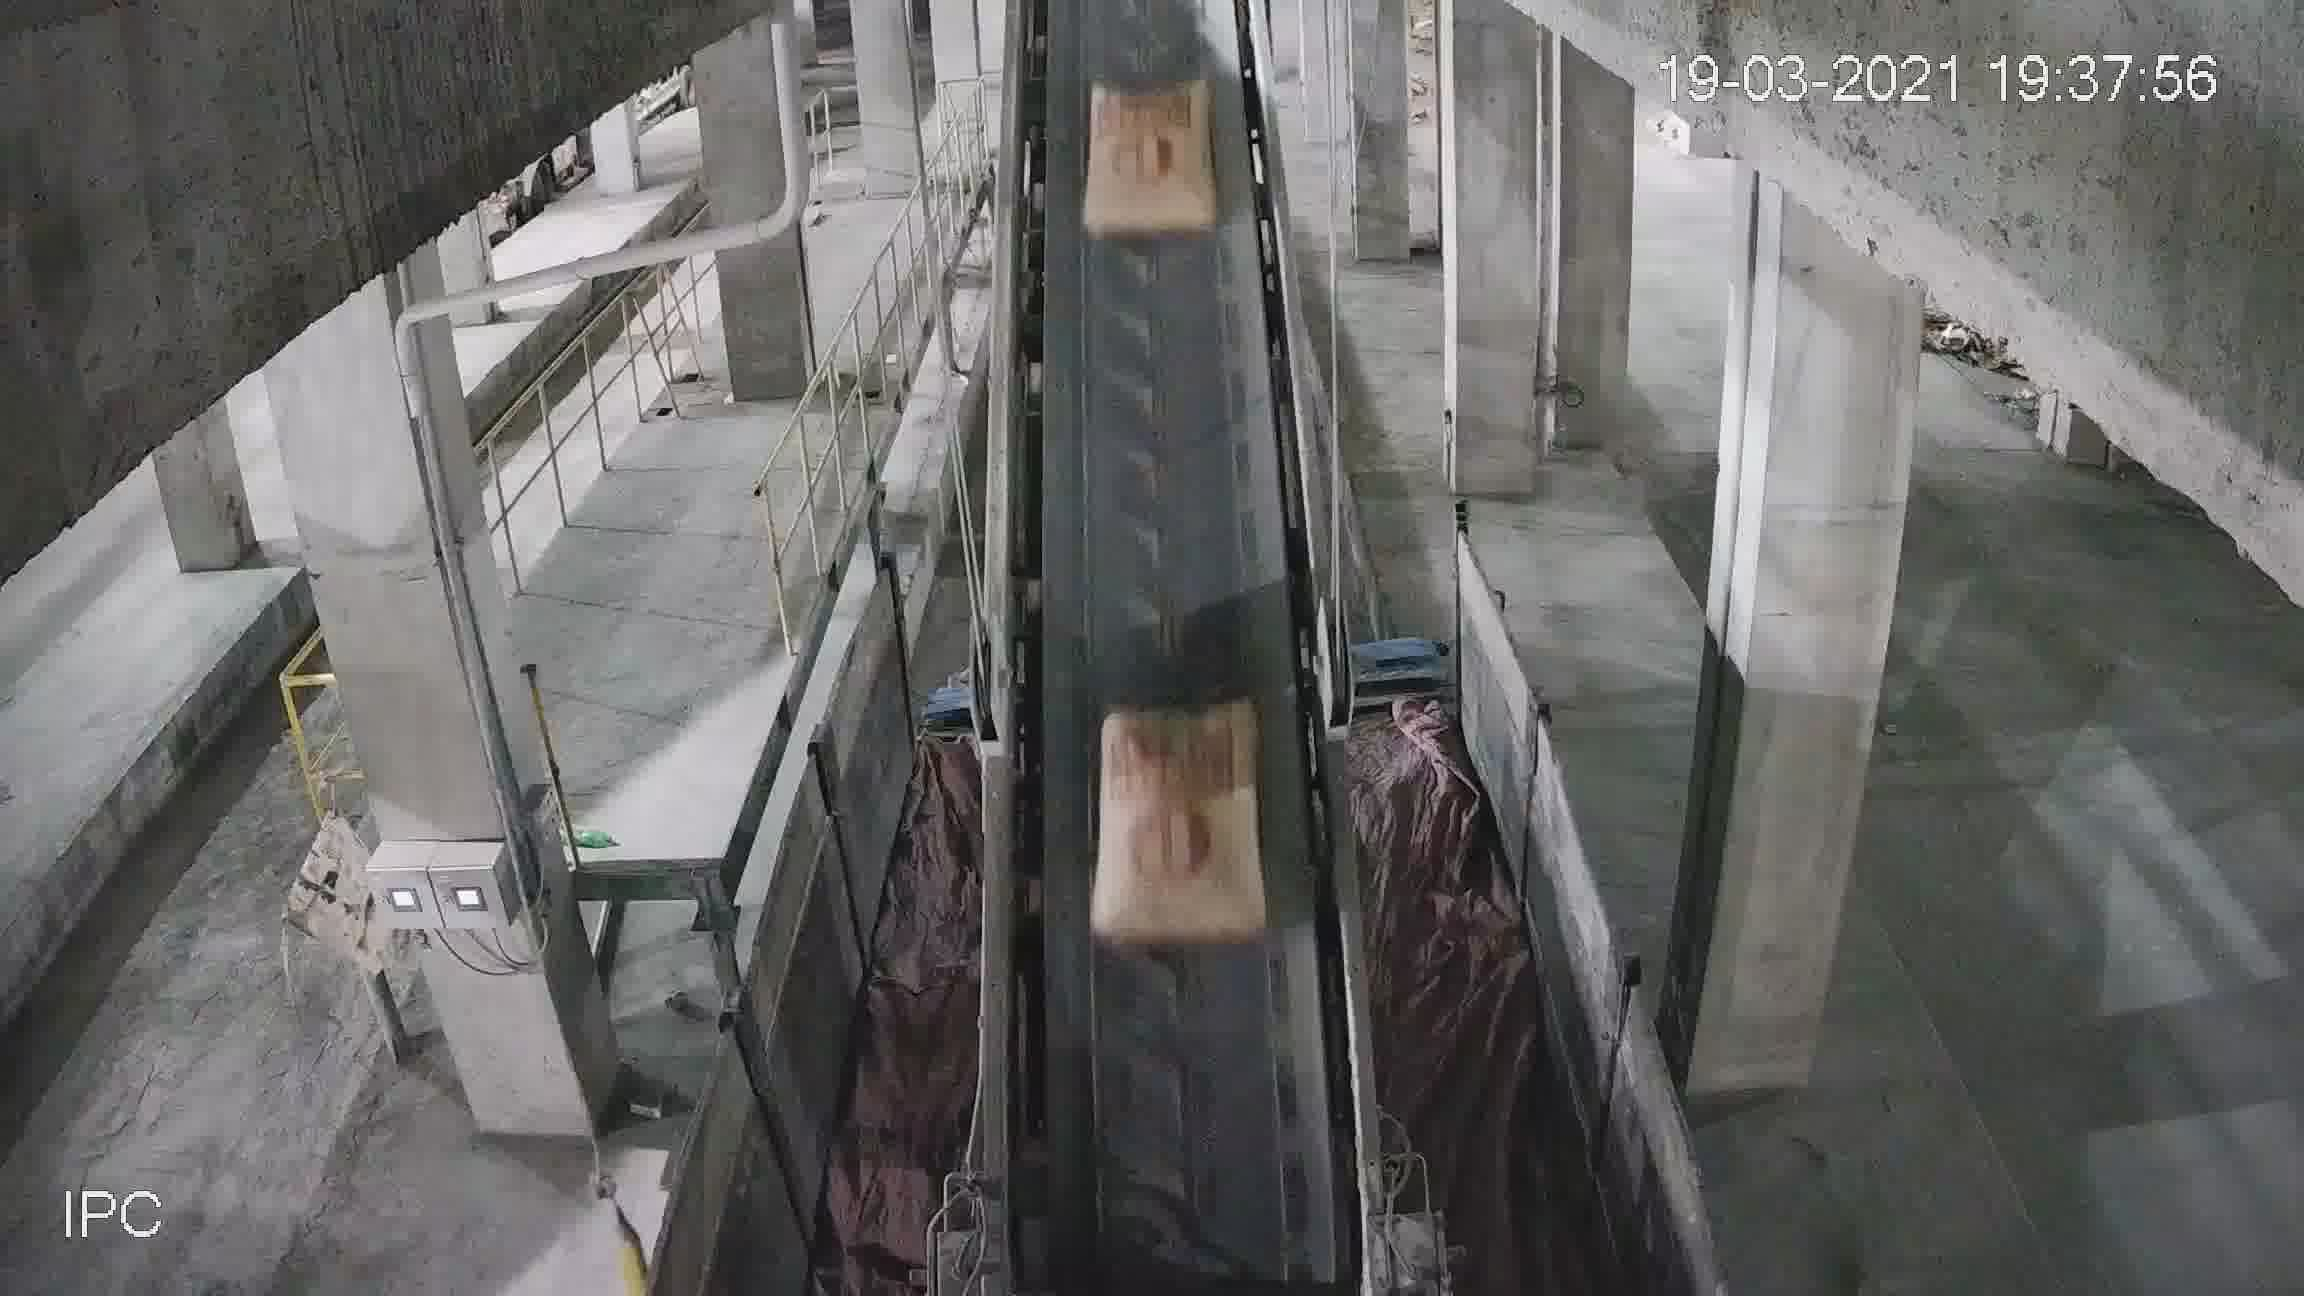bag: (1093, 709, 1275, 953), (1081, 74, 1218, 237)
belt: (987, 62, 1347, 1154)
